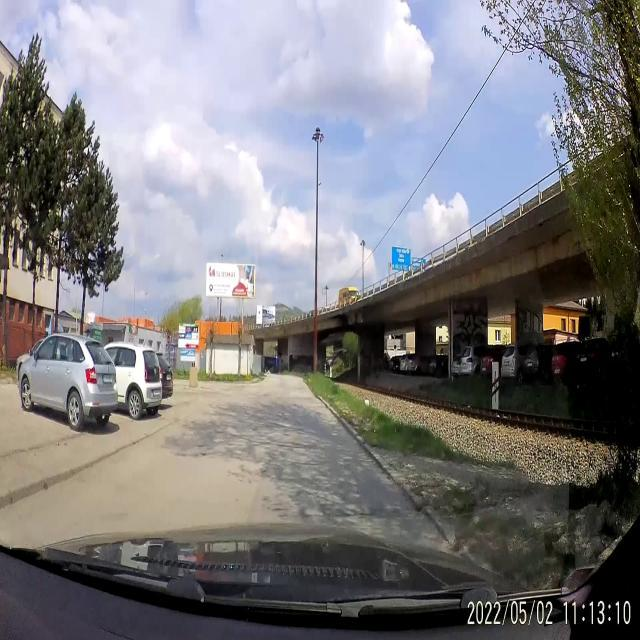Pothole: (178, 442, 208, 468)
